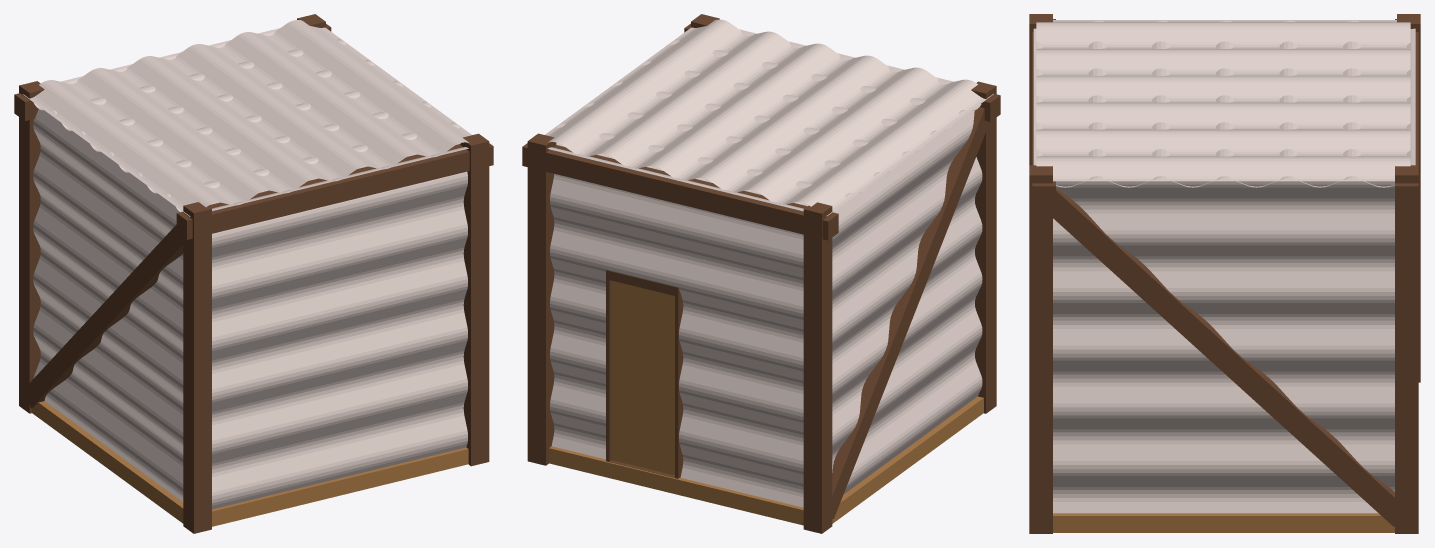
The model's file is Shack2.fbx.
3 views of the same model, side by side, from view 1: azimuth 30°, elevation 25°; view 2: azimuth 150°, elevation 25°; view 3: azimuth 270°, elevation 25° (orthographic). The views are drawn at different scales.
Parts seen in each view (by area): view 1: Plane.008, Plane.010, Plane.009, Cube.047, Cube.052, Cube.048, Cube.044, Cube.051, Cube.042, Plane.005; view 2: Plane.006, Plane.010, Plane.009, Cube.050, Cube.051, Cube.046, Cube.052, Cube.042, Cube.045, Cube.047, Plane.005, Cube.049; view 3: Plane.007, Plane.010, Cube.043, Cube.048, Cube.046, Cube.052, Plane.005, Cube.051, Cube.045, Cube.044, Cube.047.
Part boxes in pixels (<box>): Plane.008: <box>212,171,467,509</box>; Plane.010: <box>23,20,471,216</box>; Plane.009: <box>33,109,183,502</box>; Cube.047: <box>183,202,211,533</box>; Cube.052: <box>32,401,468,526</box>; Cube.048: <box>460,133,489,466</box>; Cube.044: <box>176,143,493,239</box>; Cube.051: <box>19,81,44,413</box>; Cube.042: <box>23,214,193,408</box>; Plane.005: <box>34,28,468,212</box>; Plane.006: <box>550,149,803,507</box>; Plane.010: <box>545,19,993,216</box>; Plane.009: <box>832,110,982,493</box>; Cube.050: <box>611,281,674,475</box>; Cube.051: <box>803,202,832,533</box>; Cube.046: <box>527,133,556,465</box>; Cube.052: <box>549,396,983,525</box>; Cube.042: <box>832,107,989,518</box>; Cube.045: <box>522,143,838,240</box>; Cube.047: <box>971,81,996,413</box>; Plane.005: <box>547,29,981,212</box>; Cube.049: <box>606,270,683,478</box>; Plane.007: <box>1053,181,1394,513</box>; Plane.010: <box>1036,20,1410,181</box>; Cube.043: <box>1030,182,1409,526</box>; Cube.048: <box>1029,165,1052,533</box>; Cube.046: <box>1395,165,1418,533</box>; Cube.052: <box>1053,513,1394,532</box>; Plane.005: <box>1033,20,1415,187</box>; Cube.051: <box>1397,14,1420,382</box>; Cube.045: <box>1395,19,1418,207</box>; Cube.044: <box>1032,19,1055,207</box>; Cube.047: <box>1029,14,1052,165</box>.
Bounding box in the file's own units: 840 × 846 × 830.
